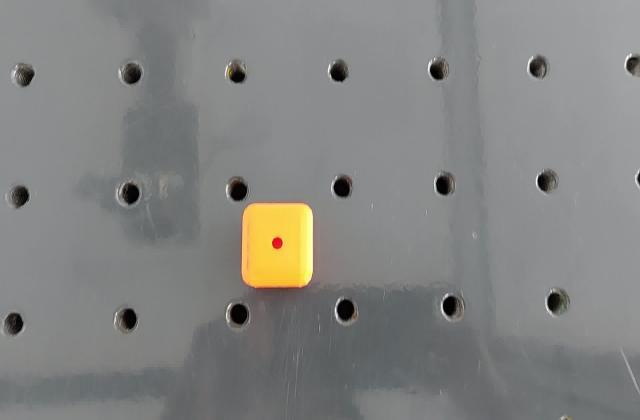cube: (239, 202, 316, 289)
